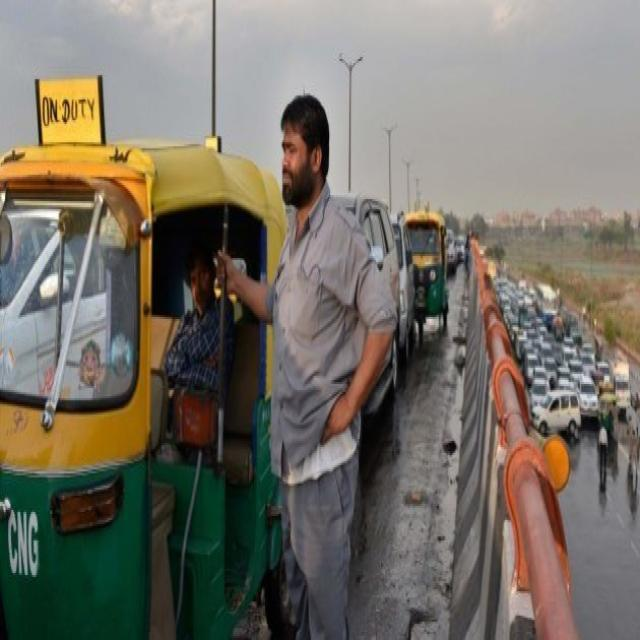autorickshaw: (0, 80, 290, 637), (406, 210, 449, 339)
car: (533, 390, 581, 437)
